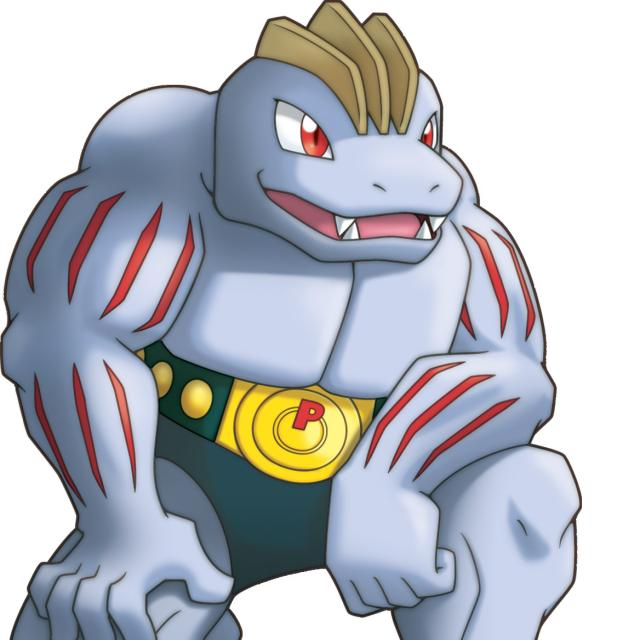Machoke: (16, 11, 573, 640)
